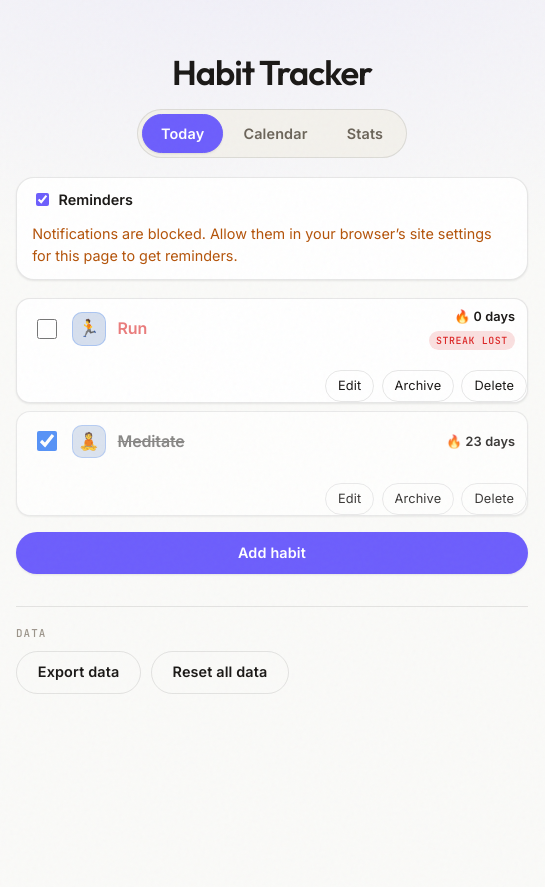
Test: App › shows per-habit and aggregate stats in the Stats view
Click the button "Stats" at (365, 134), box [328, 114, 402, 153]
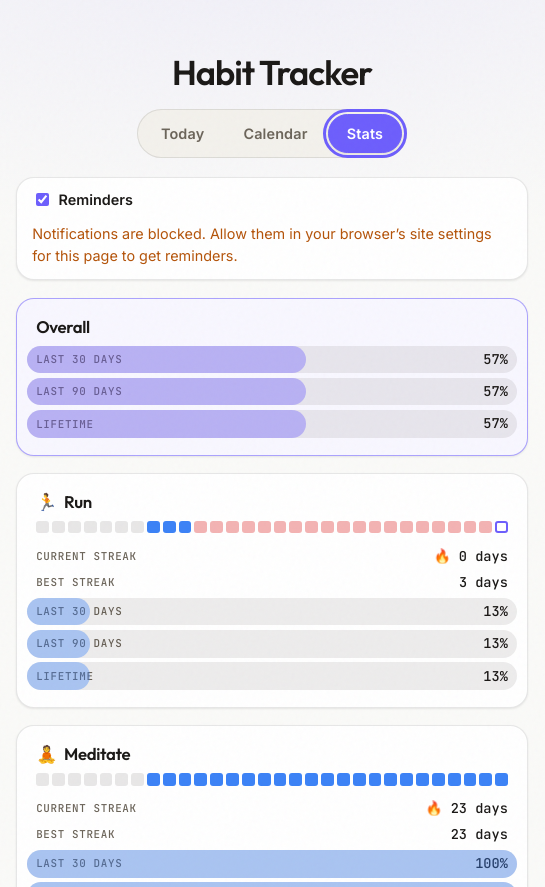
Now the text "3 days" is shown, box [459, 572, 508, 593]
Now the text "13%" is shown 3 times, box [483, 601, 508, 622]; [483, 633, 508, 654]; [483, 666, 508, 687]
Now the text "23 days" is shown, box [451, 824, 508, 845]
